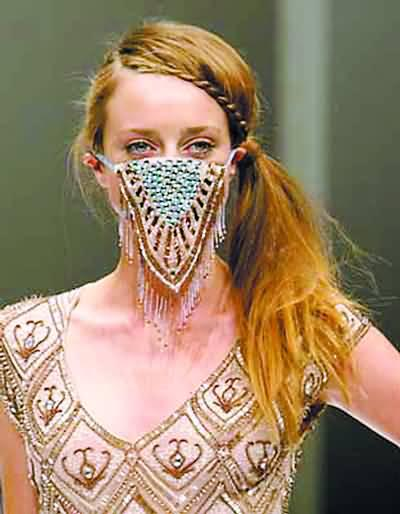OK: (102, 121, 239, 258)
